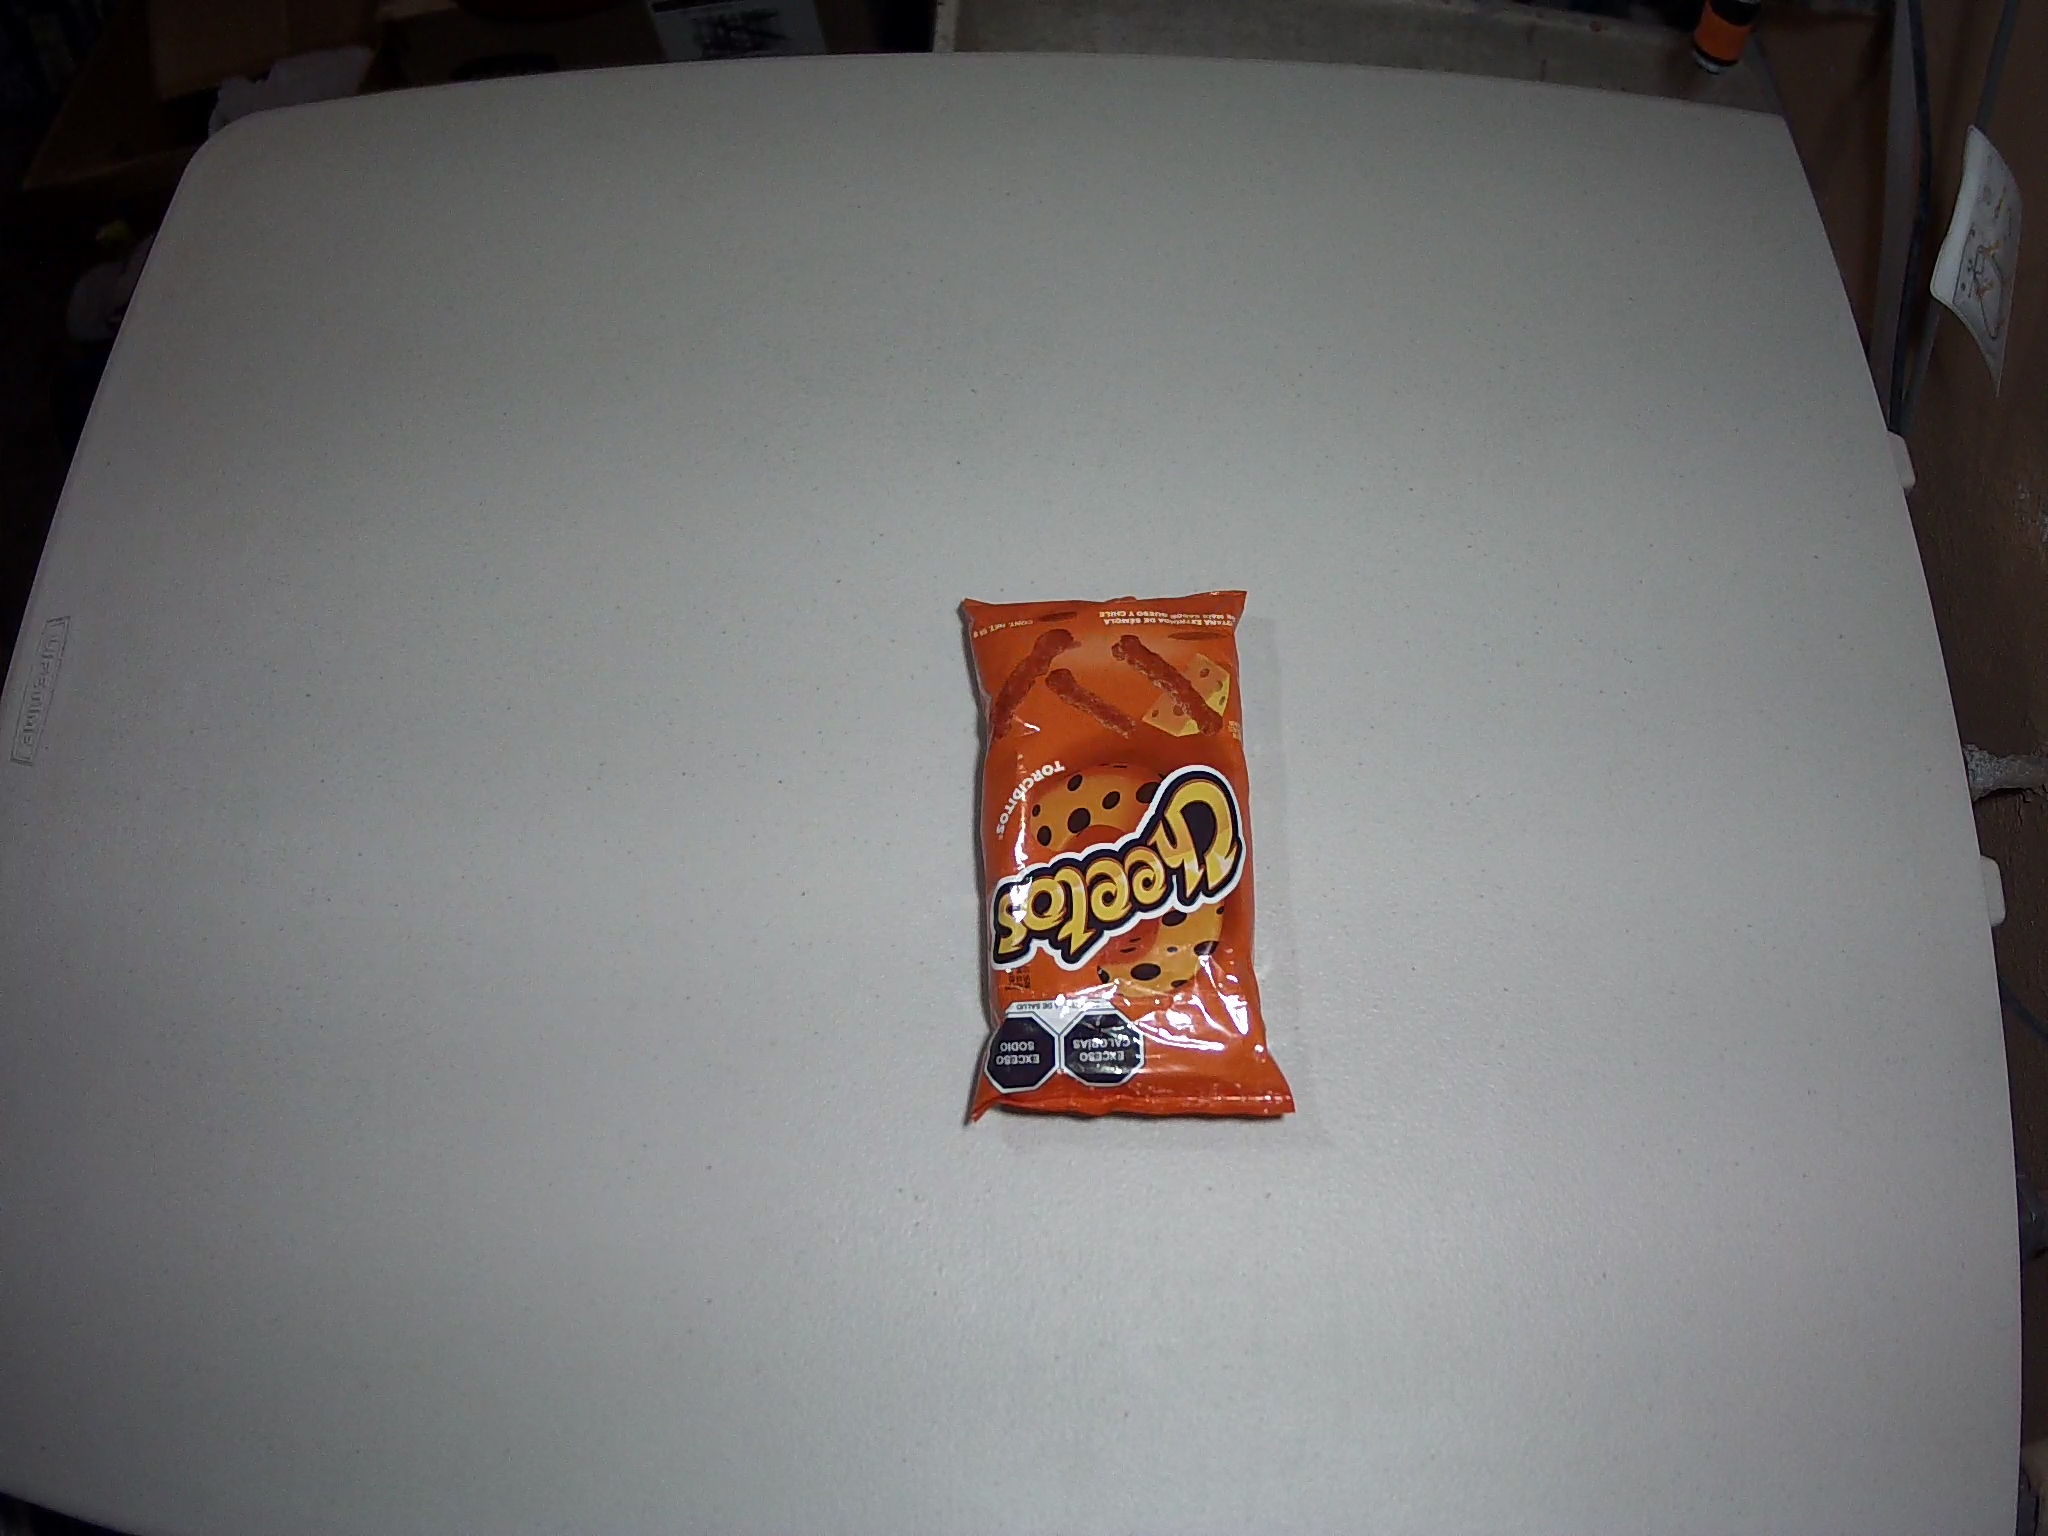CheetosTorciditos_55_F: (956, 591, 1297, 1128)
